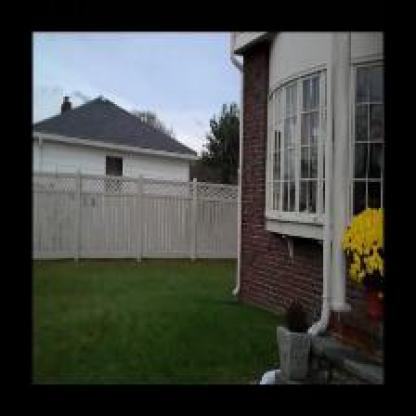other: (352, 208, 386, 309)
